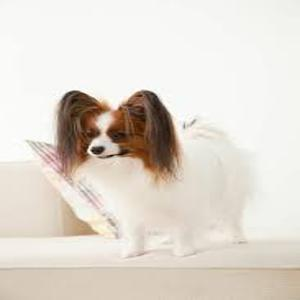yell: (55, 90, 251, 257)
